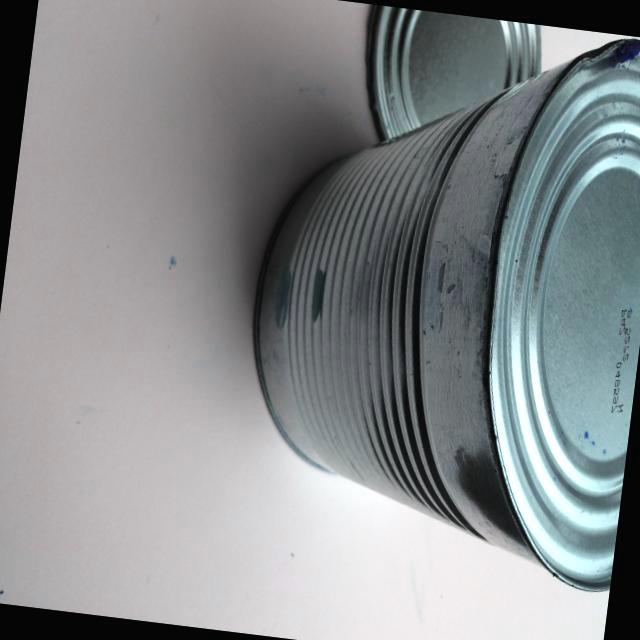metal: (164, 0, 640, 609)
